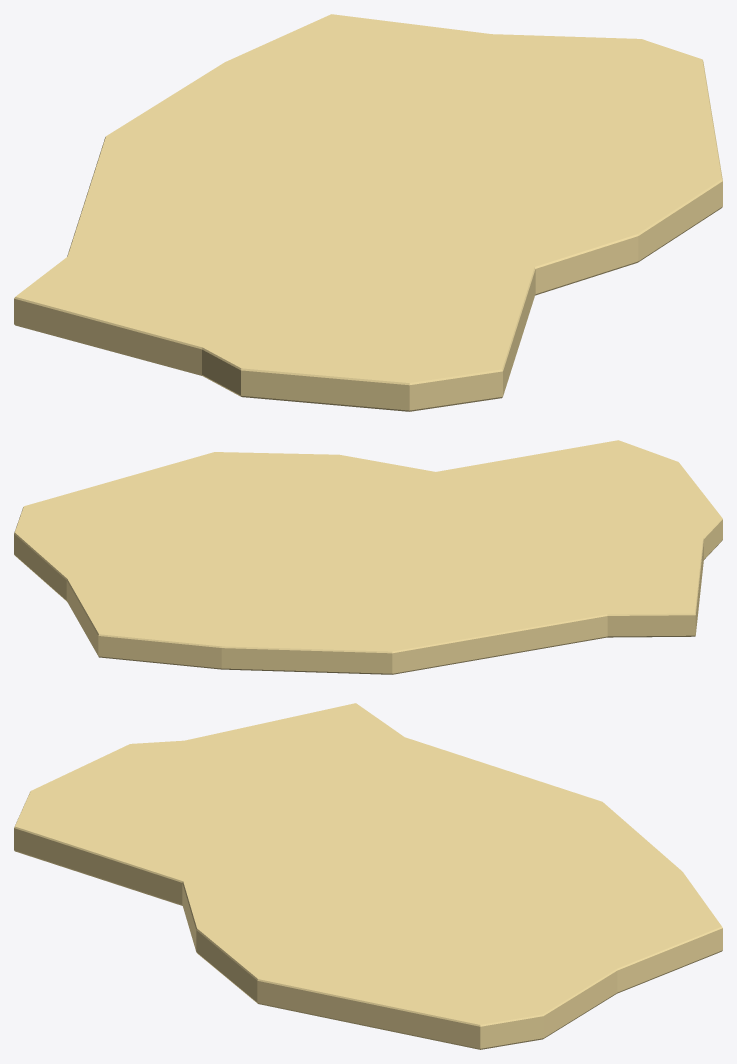
Rendered from LSO.glb.
3 renders of one model, top to bottom at view 1: azimuth 30°, elevation 25°; view 2: azimuth 150°, elevation 25°; view 3: azimuth 270°, elevation 25°, orthographic. The views are drawn at different scales.
Bounding box in the file's own units: 1.89 × 0.068 × 1.75.
